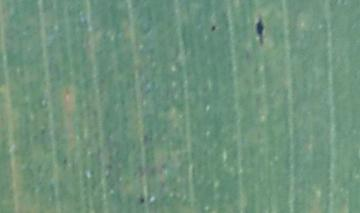tarspot: (253, 11, 265, 46), (61, 154, 70, 166), (138, 194, 146, 205), (39, 127, 48, 136), (209, 24, 217, 33)
